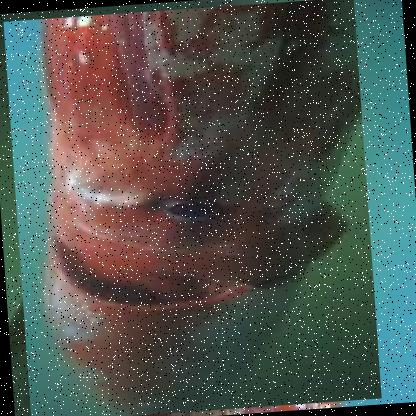colossal_squid: (1, 0, 381, 415)
